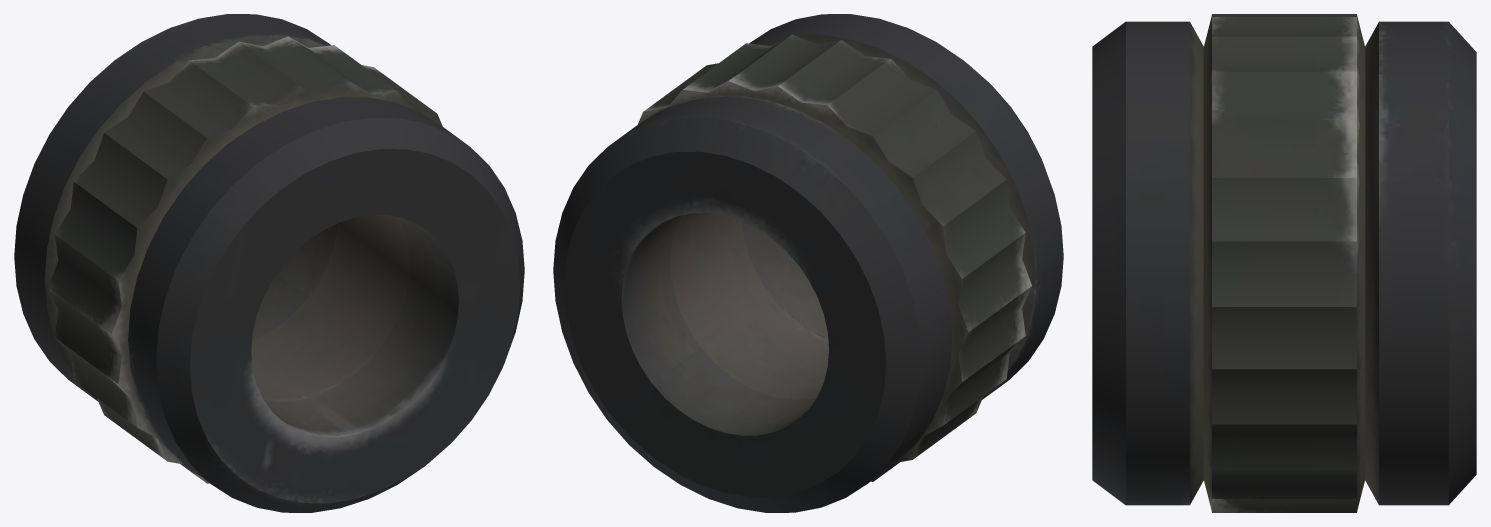
File: protetor_rosca_9mm.glb
3 views of the same model, side by side, from view 1: azimuth 30°, elevation 25°; view 2: azimuth 150°, elevation 25°; view 3: azimuth 270°, elevation 25° (orthographic). The views are drawn at different scales.
Visible parts, largest first — view 1: protetor_rosca_9mm_boca; view 2: protetor_rosca_9mm_boca; view 3: protetor_rosca_9mm_boca.
Part boxes in pixels (x1,y1,x2,y2): protetor_rosca_9mm_boca: (14, 14, 524, 512); protetor_rosca_9mm_boca: (553, 14, 1063, 512); protetor_rosca_9mm_boca: (1092, 14, 1476, 512).
Bounding box in the file's own units: 0.018 × 0.018 × 0.0138.
1 material, 1 textured.
